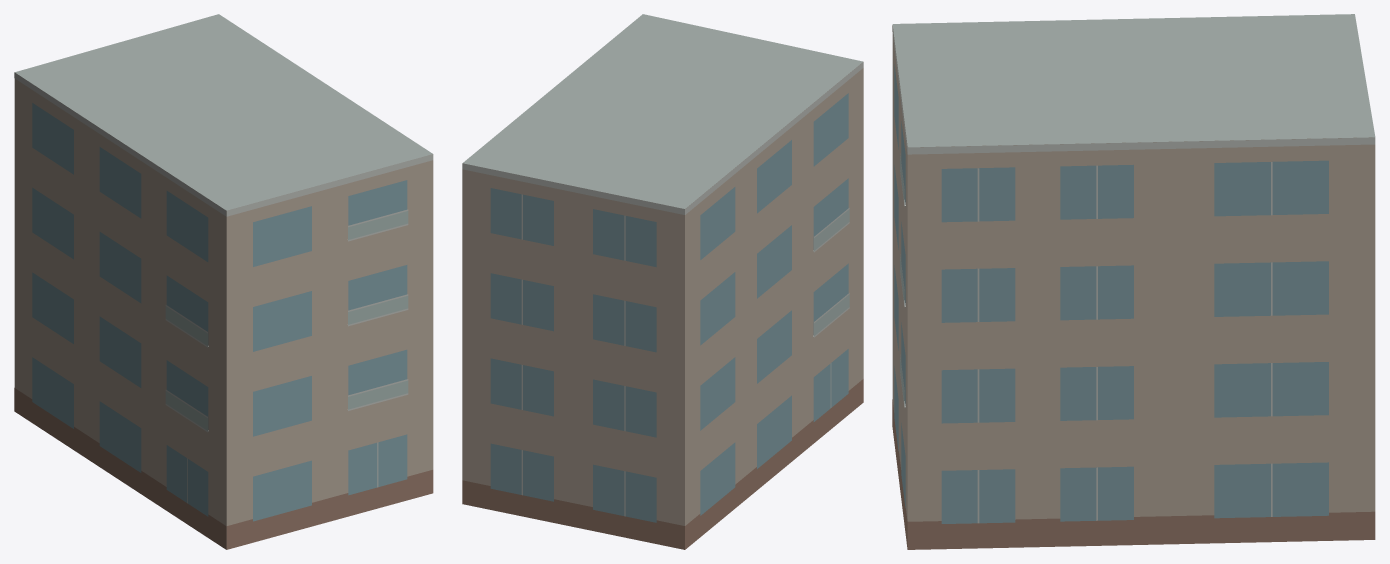
The model's file is survey-upis-32463984.glb.
The picture shows the model from 3 angles, left to right: view 1: azimuth 30°, elevation 25°; view 2: azimuth 150°, elevation 25°; view 3: azimuth 270°, elevation 25°; orthographic projection. The views are drawn at different scales.
Visible parts, largest first — view 1: survey-upis-32463984.tmp; view 2: survey-upis-32463984.tmp; view 3: survey-upis-32463984.tmp.
Boxes of the visible parts, x1,y1,x2,y2 form: survey-upis-32463984.tmp: (14,14,433,549); survey-upis-32463984.tmp: (462,14,863,549); survey-upis-32463984.tmp: (892,14,1375,549).
Size of the model in its own units: 9.71 by 13.65 by 14.85.
